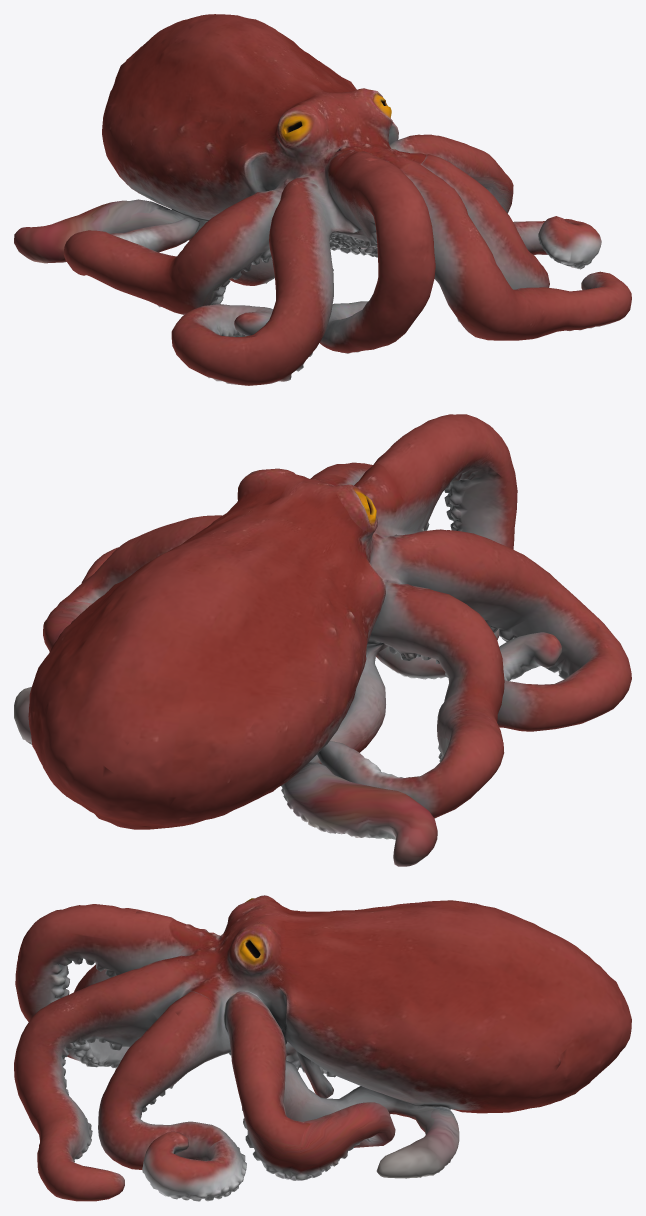
File: MZ4250 - Octopus.glb
3 views of the same model, one above another, from view 1: azimuth 30°, elevation 25°; view 2: azimuth 150°, elevation 25°; view 3: azimuth 270°, elevation 25° (orthographic). The views are drawn at different scales.
Parts seen in each view (by area): view 1: Octopus t.001; view 2: Octopus t.001; view 3: Octopus t.001.
Part boxes in pixels (x1,y1,x2,y2): Octopus t.001: (14,14,631,385); Octopus t.001: (14,414,631,866); Octopus t.001: (14,895,631,1201).
Bounding box in the file's own units: 12.78 × 5.65 × 15.82.
1 material, 1 textured.
